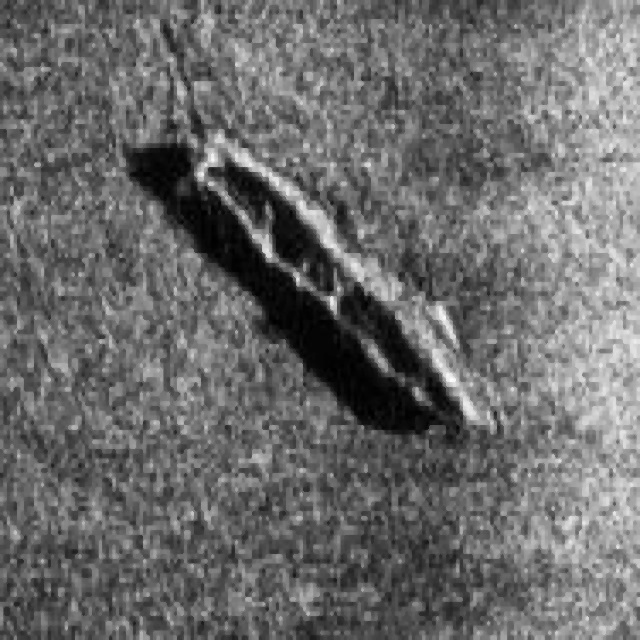Ship: (168, 109, 503, 448)
